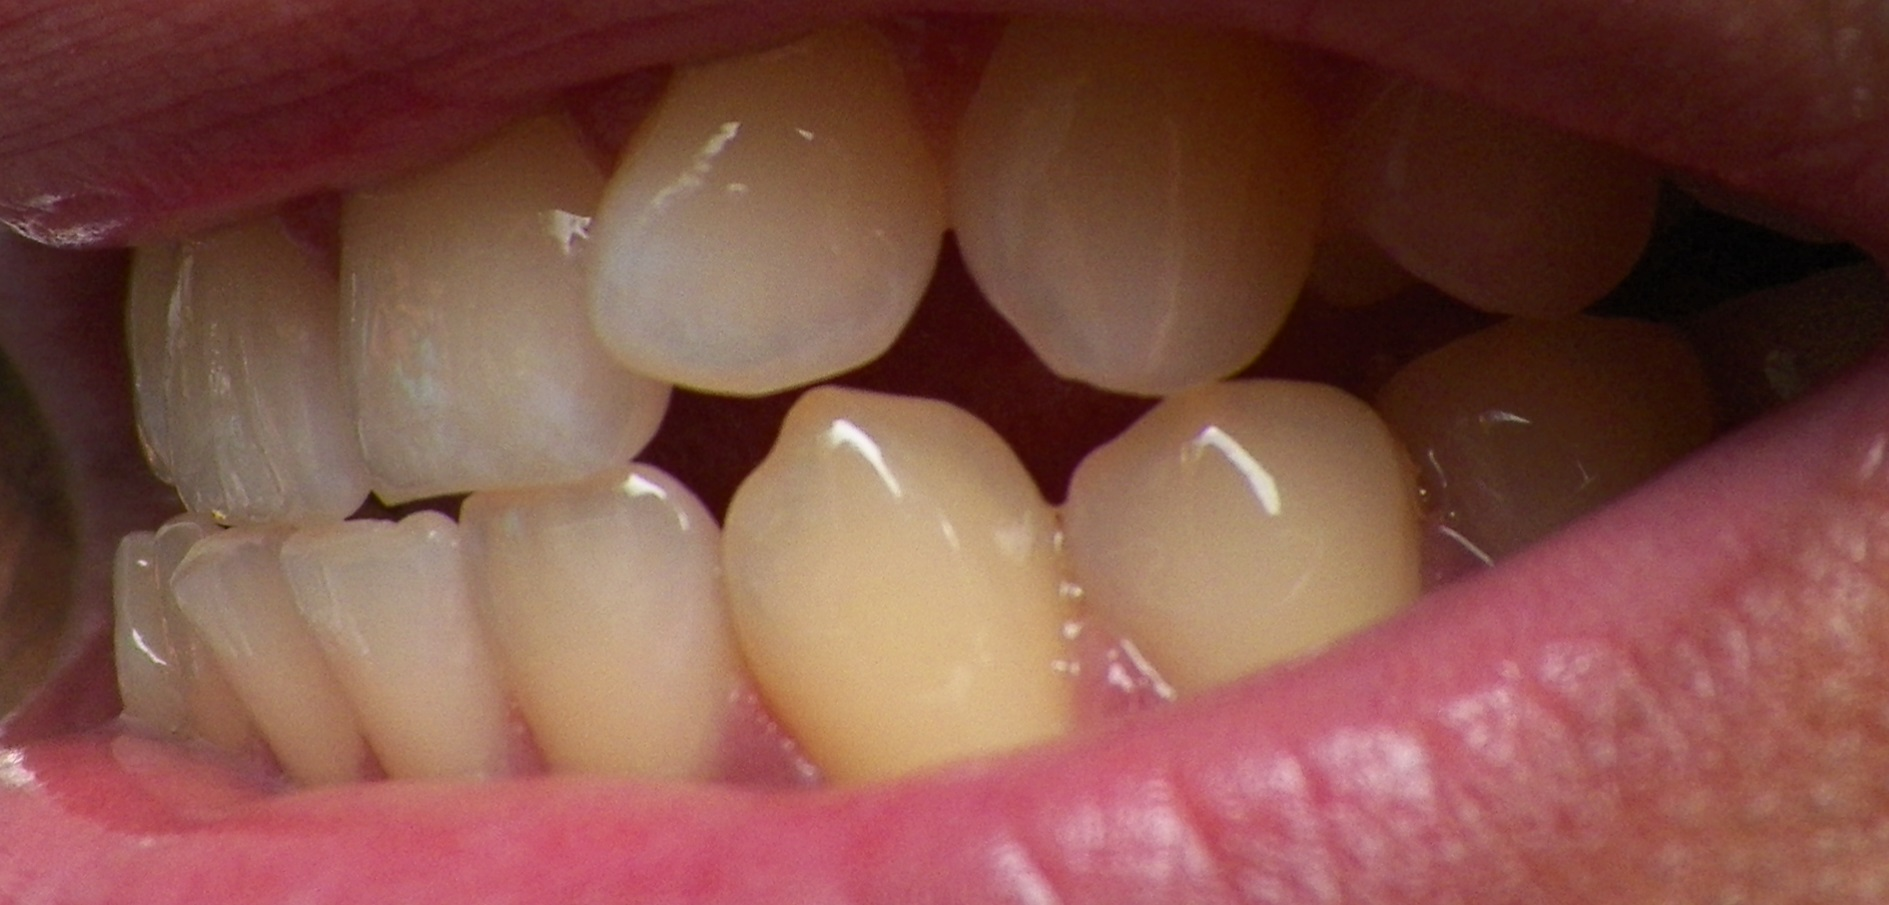boca: (67, 35, 1769, 811)
